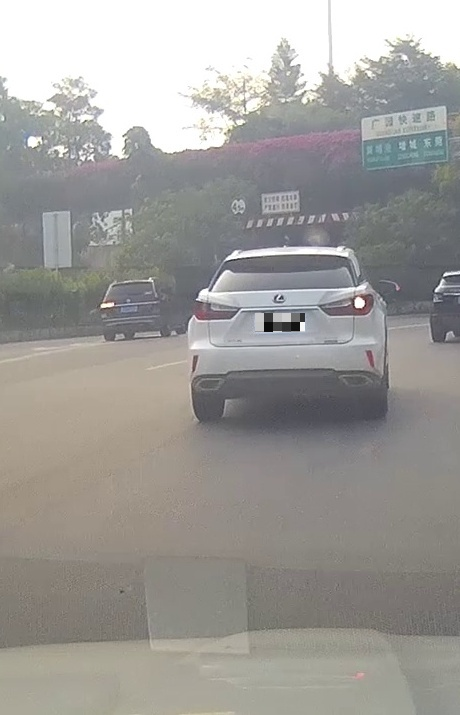L_light: (192, 299, 242, 320), (100, 301, 114, 308)
R_light: (317, 293, 375, 316), (148, 297, 160, 304)
T_light: (276, 251, 299, 258), (126, 280, 135, 283)
day-left: (99, 277, 163, 341)
day-right: (188, 245, 378, 421)
plate_1: (255, 313, 305, 332)
